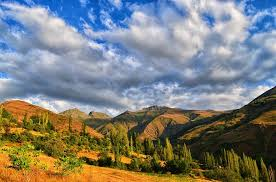mountain: (6, 99, 276, 180)
sky: (3, 3, 269, 97)
